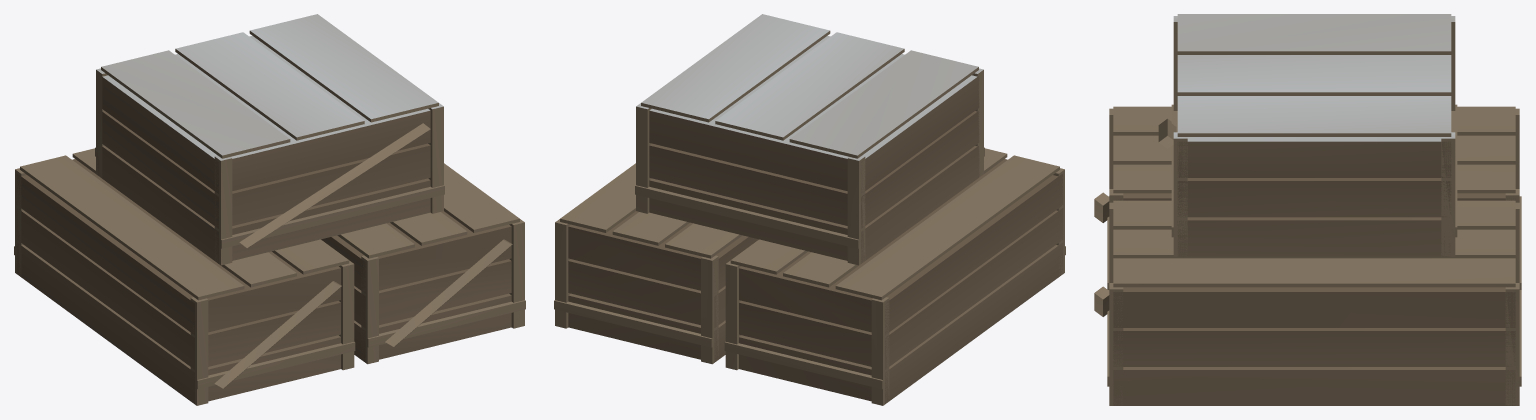
File: crate_stack.glb
3 renders of one model, left to right at view 1: azimuth 30°, elevation 25°; view 2: azimuth 150°, elevation 25°; view 3: azimuth 270°, elevation 25°, orthographic. The views are drawn at different scales.
Parts seen in each view (by area): view 1: crate_stack; view 2: crate_stack; view 3: crate_stack.
Boxes of the visible parts, <box> form: crate_stack: <box>14,14,525,405</box>; crate_stack: <box>554,14,1065,405</box>; crate_stack: <box>1094,14,1521,405</box>.
Bounding box in the file's own units: 2 × 1.25 × 2.
